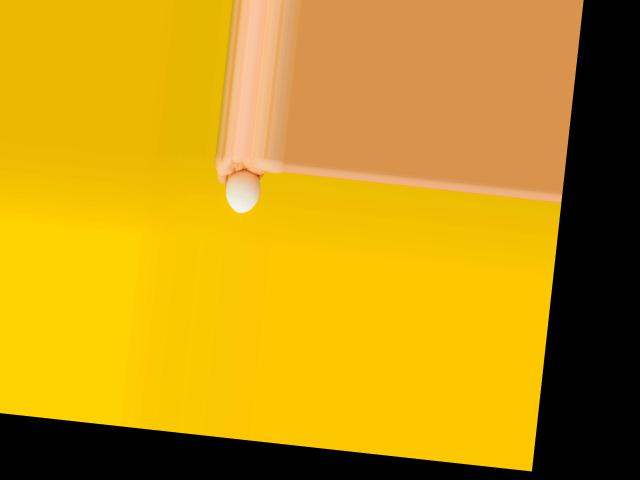egg: (223, 167, 260, 214)
